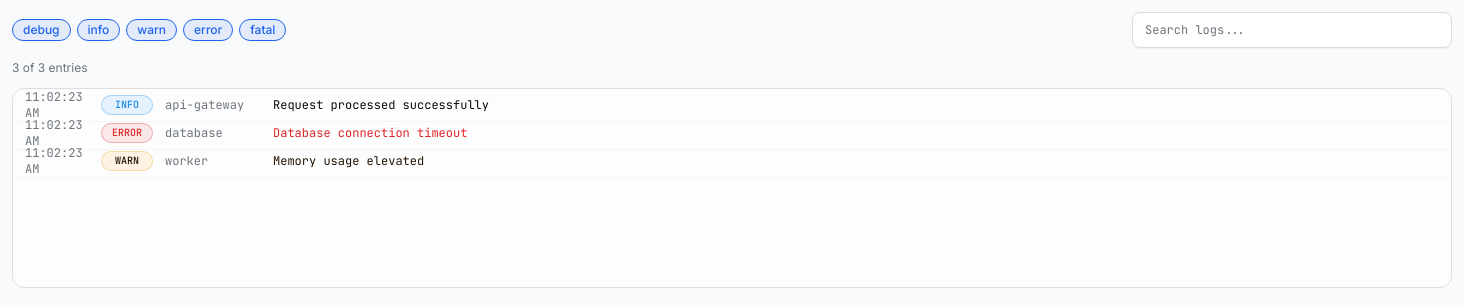
it: LogViewer › filters logs by search query
Type "database" into the field labelled "Search logs" at (1292, 30), box [1132,12,1452,48]
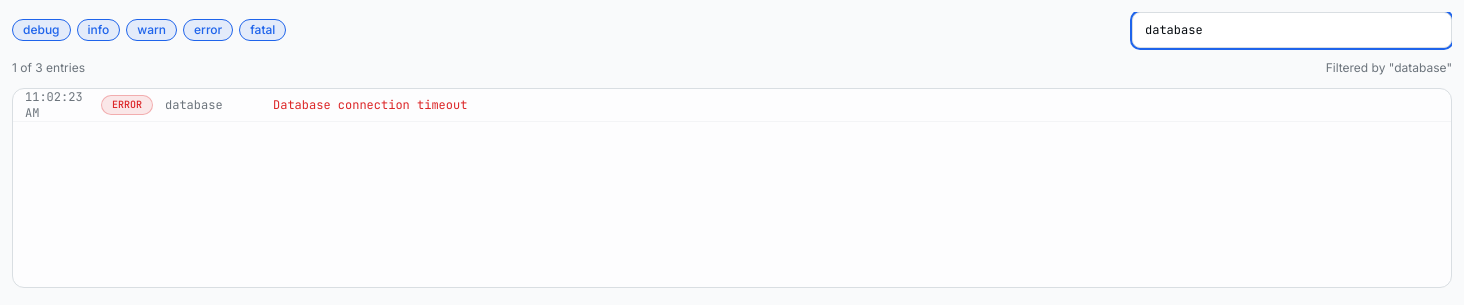
Now the text "1 of 3 entries" is shown, box [12,60,85,76]
Now the text "Filtered by \"database\"" is shown, box [1326,60,1452,76]
